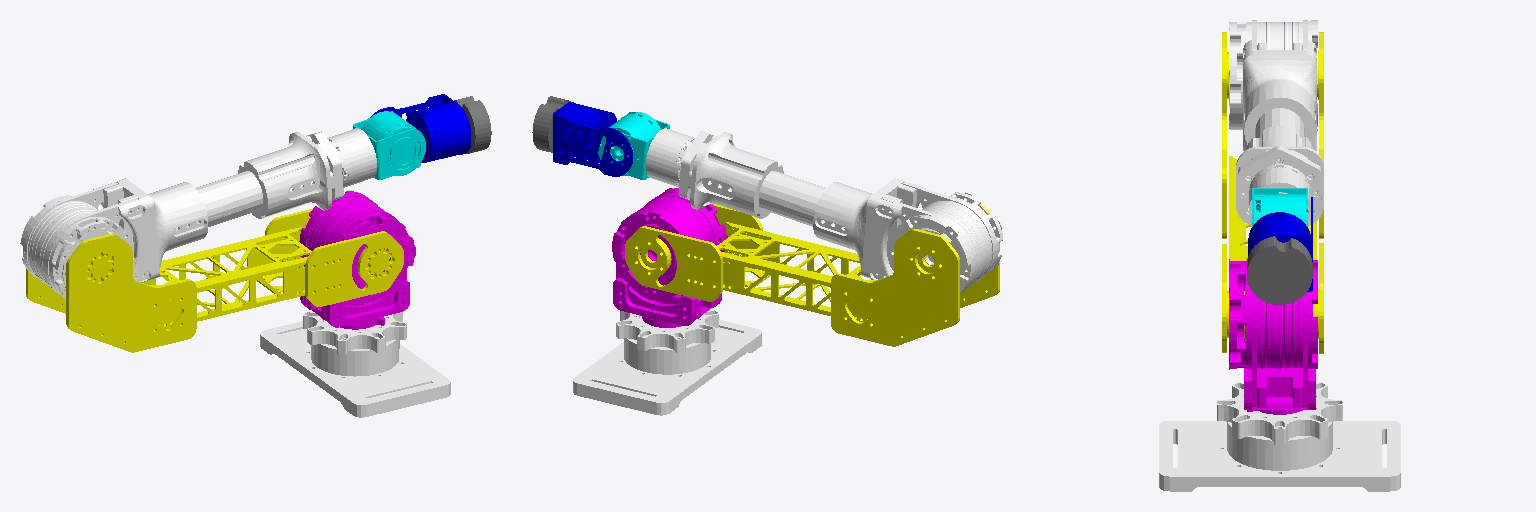
URDF robot description (urdfyong):
<!-- This URDF was automatically created by SolidWorks to URDF Exporter! Originally created by Stephen Brawner (brawner@gmail.com) 
     Commit Version: 1.6.0-4-g7f85cfe  Build Version: 1.6.7995.38578
     For more information, please see http://wiki.ros.org/sw_urdf_exporter -->
<robot
  name="urdfyong">
  <link
    name="base_link">
    <inertial>
      <origin
        xyz="-0.10143 -0.0030755 0.16663"
        rpy="0 0 0" />
      <mass
        value="1.047" />
      <inertia
        ixx="0.045109"
        ixy="0.0020729"
        ixz="-0.024963"
        iyy="0.2063"
        iyz="1.529E-06"
        izz="0.1701" />
    </inertial>
    <visual>
      <origin
        xyz="0 0 0"
        rpy="0 0 0" />
      <geometry>
        <mesh
          filename="package://urdfyong/meshes/base_link.STL" />
      </geometry>
      <material
        name="">
        <color
          rgba="1 1 1 1" />
      </material>
    </visual>
    <collision>
      <origin
        xyz="0 0 0"
        rpy="0 0 0" />
      <geometry>
        <mesh
          filename="package://urdfyong/meshes/base_link.STL" />
      </geometry>
    </collision>
  </link>
  <link
    name="Link1">
    <inertial>
      <origin
        xyz="-0.10143 -0.0030755 0.12663"
        rpy="0 0 0" />
      <mass
        value="1.441" />
      <inertia
        ixx="0.045109"
        ixy="0.0020729"
        ixz="-0.024963"
        iyy="0.2063"
        iyz="1.529E-06"
        izz="0.1701" />
    </inertial>
    <visual>
      <origin
        xyz="0 0 0"
        rpy="0 0 0" />
      <geometry>
        <mesh
          filename="package://urdfyong/meshes/Link1.STL" />
      </geometry>
      <material
        name="">
        <color
          rgba="1 0 1 1" />
      </material>
    </visual>
    <collision>
      <origin
        xyz="0 0 0"
        rpy="0 0 0" />
      <geometry>
        <mesh
          filename="package://urdfyong/meshes/Link1.STL" />
      </geometry>
    </collision>
  </link>
  <joint
    name="joint1"
    type="revolute">
    <origin
      xyz="0 0 0.04"
      rpy="0 0 0" />
    <parent
      link="base_link" />
    <child
      link="Link1" />
    <axis
      xyz="0 0 -1" />
    <limit
      lower="-2.967"
      upper="2.967"
      effort="11"
      velocity="2.618" />
  </joint>
  <link
    name="Link2">
    <inertial>
      <origin
        xyz="-0.10143 -0.033176 0.024063"
        rpy="0 0 0" />
      <mass
        value="0.698" />
      <inertia
        ixx="0.045109"
        ixy="0.0020729"
        ixz="-0.024963"
        iyy="0.2063"
        iyz="1.529E-06"
        izz="0.1701" />
    </inertial>
    <visual>
      <origin
        xyz="0 0 0"
        rpy="0 0 0" />
      <geometry>
        <mesh
          filename="package://urdfyong/meshes/Link2.STL" />
      </geometry>
      <material
        name="">
        <color
          rgba="1 1 0 1" />
      </material>
    </visual>
    <collision>
      <origin
        xyz="0 0 0"
        rpy="0 0 0" />
      <geometry>
        <mesh
          filename="package://urdfyong/meshes/Link2.STL" />
      </geometry>
    </collision>
  </link>
  <joint
    name="joint2"
    type="revolute">
    <origin
      xyz="0 0.0301 0.10257"
      rpy="0 0 0" />
    <parent
      link="Link1" />
    <child
      link="Link2" />
    <axis
      xyz="0 -1 0" />
    <limit
      lower="-1.571"
      upper="1.571"
      effort="40"
      velocity="1.745" />
  </joint>
  <link
    name="Link3">
    <inertial>
      <origin
        xyz="0.24757 -0.033176 -0.052125"
        rpy="0 0 0" />
      <mass
        value="2.107" />
      <inertia
        ixx="0.045109"
        ixy="0.0020729"
        ixz="-0.024963"
        iyy="0.2063"
        iyz="1.529E-06"
        izz="0.1701" />
    </inertial>
    <visual>
      <origin
        xyz="0 0 0"
        rpy="0 0 0" />
      <geometry>
        <mesh
          filename="package://urdfyong/meshes/Link3.STL" />
      </geometry>
      <material
        name="">
        <color
          rgba="1 1 1 1" />
      </material>
    </visual>
    <collision>
      <origin
        xyz="0 0 0"
        rpy="0 0 0" />
      <geometry>
        <mesh
          filename="package://urdfyong/meshes/Link3.STL" />
      </geometry>
    </collision>
  </link>
  <joint
    name="joint3"
    type="revolute">
    <origin
      xyz="-0.349 0 0.076188"
      rpy="0 0 0" />
    <parent
      link="Link2" />
    <child
      link="Link3" />
    <axis
      xyz="0 -1 0" />
    <limit
      lower="-2.618"
      upper="2.618"
      effort="40"
      velocity="1.745" />
  </joint>
  <link
    name="Link4">
    <inertial>
      <origin
        xyz="-0.11405 -0.0030755 -0.083763"
        rpy="0 0 0" />
      <mass
        value="0.39" />
      <inertia
        ixx="0.045109"
        ixy="0.0020729"
        ixz="-0.024963"
        iyy="0.2063"
        iyz="1.529E-06"
        izz="0.1701" />
    </inertial>
    <visual>
      <origin
        xyz="0 0 0"
        rpy="0 0 0" />
      <geometry>
        <mesh
          filename="package://urdfyong/meshes/Link4.STL" />
      </geometry>
      <material
        name="">
        <color
          rgba="0 1 1 1" />
      </material>
    </visual>
    <collision>
      <origin
        xyz="0 0 0"
        rpy="0 0 0" />
      <geometry>
        <mesh
          filename="package://urdfyong/meshes/Link4.STL" />
      </geometry>
    </collision>
  </link>
  <joint
    name="joint4"
    type="revolute">
    <origin
      xyz="0.36162 -0.0301 0.031638"
      rpy="0 0 0" />
    <parent
      link="Link3" />
    <child
      link="Link4" />
    <axis
      xyz="-0.99619 0 -0.087156" />
    <limit
      lower="-2.967"
      upper="2.967"
      effort="12.5"
      velocity="2.094" />
  </joint>
  <link
    name="Link5">
    <inertial>
      <origin
        xyz="-0.14792 -0.028351 -0.086726"
        rpy="0 0 0" />
      <mass
        value="0.41" />
      <inertia
        ixx="0.045109"
        ixy="0.0020729"
        ixz="-0.024963"
        iyy="0.2063"
        iyz="1.529E-06"
        izz="0.1701" />
    </inertial>
    <visual>
      <origin
        xyz="0 0 0"
        rpy="0 0 0" />
      <geometry>
        <mesh
          filename="package://urdfyong/meshes/Link5.STL" />
      </geometry>
      <material
        name="">
        <color
          rgba="0 0 1 1" />
      </material>
    </visual>
    <collision>
      <origin
        xyz="0 0 0"
        rpy="0 0 0" />
      <geometry>
        <mesh
          filename="package://urdfyong/meshes/Link5.STL" />
      </geometry>
    </collision>
  </link>
  <joint
    name="joint5"
    type="revolute">
    <origin
      xyz="0.033871 0.025275 0.0029633"
      rpy="0 0 0" />
    <parent
      link="Link4" />
    <child
      link="Link5" />
    <axis
      xyz="0 -1 0" />
    <limit
      lower="-1.571"
      upper="1.571"
      effort="12.5"
      velocity="2.094" />
  </joint>
  <link
    name="Link6">
    <inertial>
      <origin
        xyz="0.015 -7.73E-05 -0.0006913"
        rpy="0 0 0" />
      <mass
        value="0.049" />
      <inertia
        ixx="2.1683E-05"
        ixy="-2.6682E-20"
        ixz="-1.681E-20"
        iyy="1.2021E-05"
        iyz="-1.0324E-07"
        izz="1.2933E-05" />
    </inertial>
    <visual>
      <origin
        xyz="0 0 0"
        rpy="0 0 0" />
      <geometry>
        <mesh
          filename="package://urdfyong/meshes/Link6.STL" />
      </geometry>
      <material
        name="">
        <color
          rgba="0.49804 0.49804 0.49804 1" />
      </material>
    </visual>
    <collision>
      <origin
        xyz="0 0 0"
        rpy="0 0 0" />
      <geometry>
        <mesh
          filename="package://urdfyong/meshes/Link6.STL" />
      </geometry>
    </collision>
  </link>
  <joint
    name="joint6"
    type="revolute">
    <origin
      xyz="0.0815 -0.0255 0"
      rpy="0 0 0" />
    <parent
      link="Link5" />
    <child
      link="Link6" />
    <axis
      xyz="-1 0 0" />
    <limit
      lower="-2.967"
      upper="2.967"
      effort="12.5"
      velocity="2.094" />
  </joint>

  <ros2_control name="GazeboSimSystem" type="system">
    <hardware>
      <plugin>gazebo_ros2_control/GazeboSystem</plugin>
    </hardware>
    <joint name="joint1">
      <command_interface name="position"/>
      <state_interface name="position"/>
      <state_interface name="velocity"/>
    </joint>
    <joint name="joint2">
      <command_interface name="position"/>
      <state_interface name="position"/>
      <state_interface name="velocity"/>
    </joint>
    <joint name="joint3">
      <command_interface name="position"/>
      <state_interface name="position"/>
      <state_interface name="velocity"/>
    </joint>
    <joint name="joint4">
      <command_interface name="position"/>
      <state_interface name="position"/>
      <state_interface name="velocity"/>
    </joint>
    <joint name="joint5">
      <command_interface name="position"/>
      <state_interface name="position"/>
      <state_interface name="velocity"/>
    </joint>
    <joint name="joint6">
      <command_interface name="position"/>
      <state_interface name="position"/>
      <state_interface name="velocity"/>
    </joint>
  </ros2_control>

  <gazebo reference="base_link">
    <mu1>0.5</mu1>
    <mu2>0.5</mu2>
    <material>Gazebo/Grey</material>
  </gazebo>
  <gazebo reference="Link1">
    <mu1>0.5</mu1>
    <mu2>0.5</mu2>
    <kp>1000000.0</kp>
    <kd>100.0</kd>
    <material>Gazebo/Grey</material>
  </gazebo>
  <gazebo reference="Link2">
    <mu1>0.5</mu1>
    <mu2>0.5</mu2>
    <kp>1000000.0</kp>
    <kd>100.0</kd>
    <material>Gazebo/Grey</material>
  </gazebo>
  <gazebo reference="Link3">
    <mu1>0.5</mu1>
    <mu2>0.5</mu2>
    <kp>1000000.0</kp>
    <kd>100.0</kd>
    <material>Gazebo/Grey</material>
  </gazebo>
  <gazebo reference="Link4">
    <mu1>0.5</mu1>
    <mu2>0.5</mu2>
    <kp>1000000.0</kp>
    <kd>100.0</kd>
    <material>Gazebo/Grey</material>
  </gazebo>
  <gazebo reference="Link5">
    <mu1>0.5</mu1>
    <mu2>0.5</mu2>
    <kp>1000000.0</kp>
    <kd>100.0</kd>
    <material>Gazebo/Grey</material>
  </gazebo>
  <gazebo reference="Link6">
    <mu1>0.5</mu1>
    <mu2>0.5</mu2>
    <kp>1000000.0</kp>
    <kd>100.0</kd>
    <material>Gazebo/Grey</material>
  </gazebo>

  <gazebo>
    <plugin name="gazebo_ros2_control" filename="libgazebo_ros2_control.so">
      <parameters>/home/hibikip/ws_moveit/6_axis_robotic_arm/urdfyong_moveit_config/config/ros2_controllers.yaml</parameters>
    </plugin>
  </gazebo>

</robot>

--- Facts derived from the render (not from the file) ---
Views: 3 orthographic renders of the robot side by side, from view 1: azimuth 30°, elevation 25°; view 2: azimuth 150°, elevation 25°; view 3: azimuth 270°, elevation 25°.
Robot: urdfyong — 7 links, 6 joints (6 revolute); root link base_link; default pose: all joints at 0.
Visible links, largest first — view 1: Link2, Link3, base_link, Link1, Link5, Link4, Link6; view 2: Link2, Link3, base_link, Link1, Link5, Link4, Link6; view 3: base_link, Link3, Link1, Link2, Link6, Link5, Link4.
Link boxes in pixels (left/top/right/bottom): Link2: left=26, top=209, right=403, bottom=352; Link3: left=20, top=128, right=376, bottom=298; base_link: left=260, top=312, right=450, bottom=417; Link1: left=299, top=191, right=415, bottom=329; Link5: left=370, top=94, right=470, bottom=162; Link4: left=353, top=111, right=425, bottom=179; Link6: left=454, top=96, right=491, bottom=153; Link2: left=625, top=204, right=999, bottom=346; Link3: left=645, top=128, right=1002, bottom=293; base_link: left=573, top=310, right=761, bottom=415; Link1: left=612, top=188, right=727, bottom=327; Link5: left=553, top=102, right=632, bottom=176; Link4: left=598, top=112, right=669, bottom=179; Link6: left=532, top=96, right=570, bottom=152; base_link: left=1159, top=382, right=1400, bottom=491; Link3: left=1229, top=20, right=1323, bottom=225; Link1: left=1229, top=259, right=1317, bottom=414; Link2: left=1222, top=32, right=1323, bottom=353; Link6: left=1247, top=236, right=1312, bottom=304; Link5: left=1248, top=197, right=1312, bottom=291; Link4: left=1252, top=188, right=1307, bottom=226.
Bounding box of the posed robot: 0.552 × 0.22 × 0.2948 m (x, y, z).
Meshes: 7 distinct files referenced, 7 mesh visuals loaded (7 binary STL).
